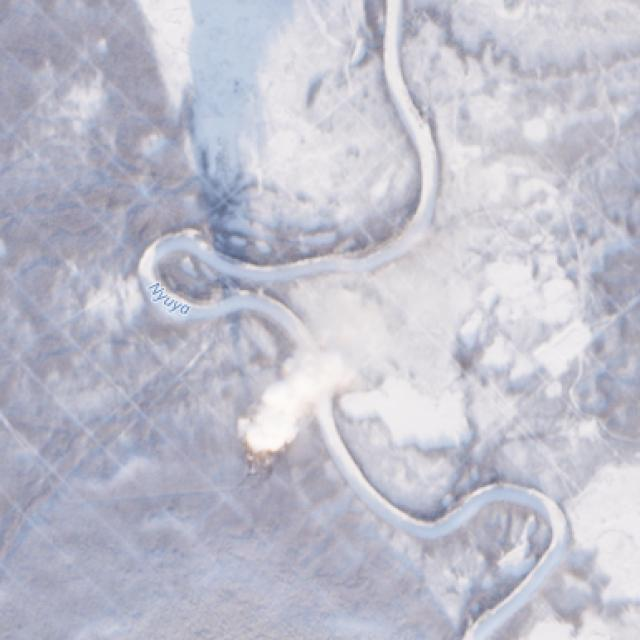wildfire: (237, 354, 336, 467)
